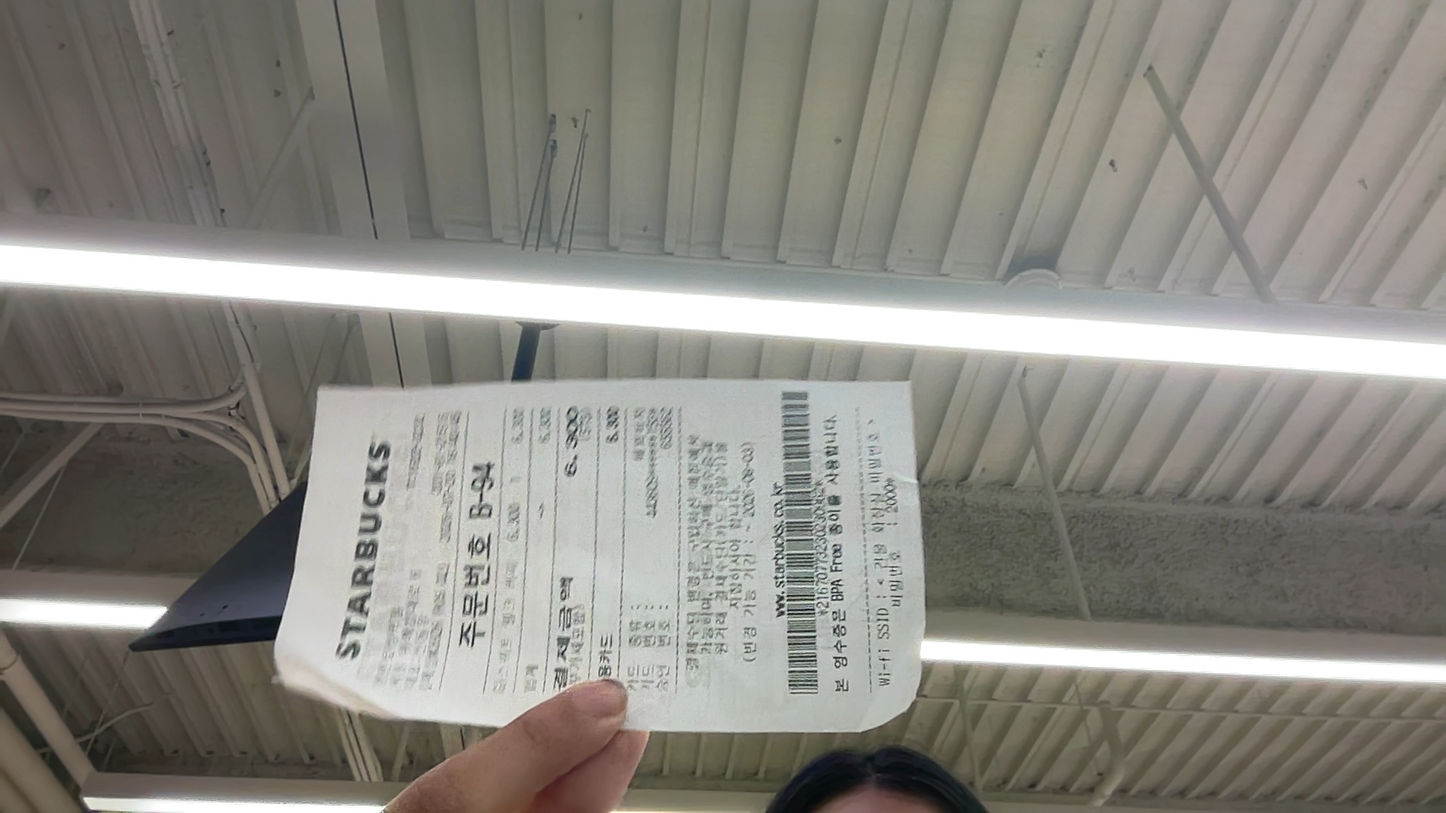Paper: (2, 403, 280, 611)
